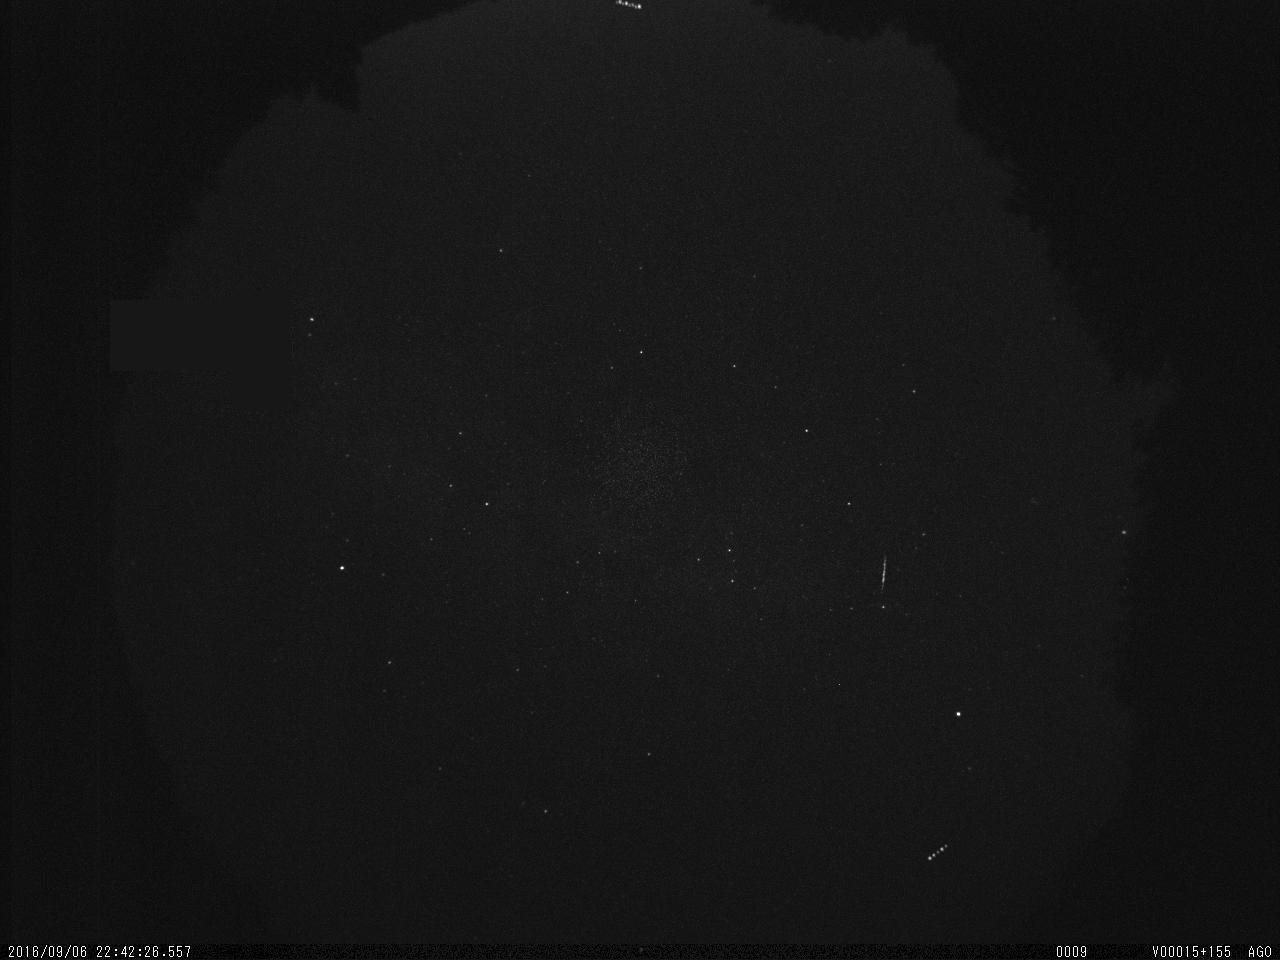meteor: (872, 549, 893, 603)
satelite: (920, 835, 957, 869), (603, 0, 660, 20)
